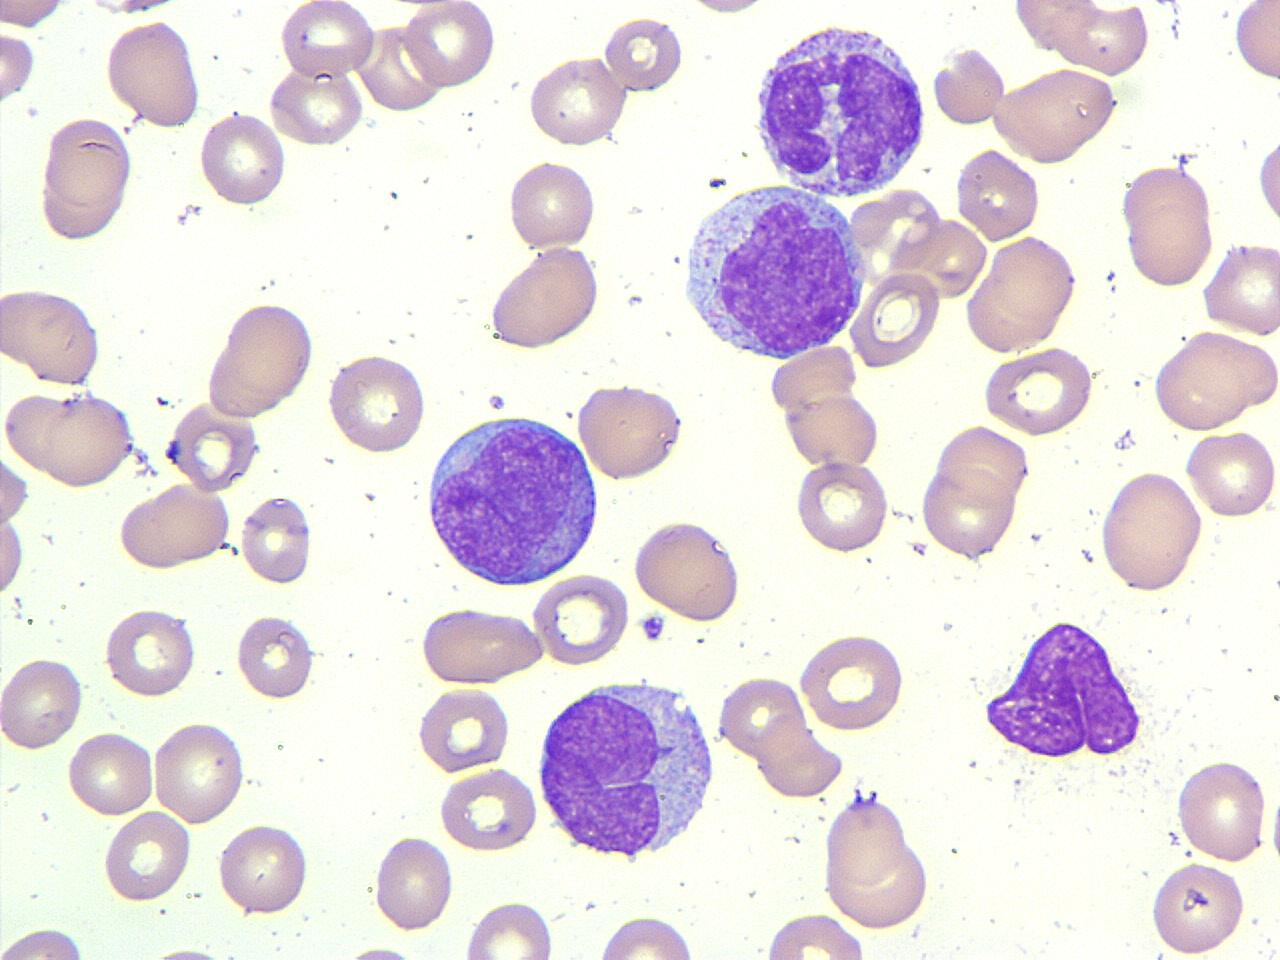Platelets: (153, 940, 224, 960), (348, 941, 415, 960), (636, 610, 668, 644), (1111, 429, 1135, 451), (707, 177, 727, 191), (1168, 830, 1182, 848)
RBC: (823, 792, 932, 934), (962, 232, 1080, 354), (2, 386, 139, 490), (1150, 326, 1280, 433), (1098, 467, 1204, 596), (206, 298, 318, 419), (37, 114, 137, 244), (990, 65, 1120, 164), (1119, 162, 1217, 289), (486, 244, 602, 351), (631, 517, 743, 625), (574, 380, 690, 484), (104, 17, 205, 131), (796, 631, 908, 733), (927, 425, 1030, 534), (326, 350, 430, 456), (0, 284, 107, 387), (149, 718, 247, 828), (980, 346, 1098, 437), (116, 482, 234, 572), (418, 604, 547, 686), (1175, 756, 1271, 864), (1147, 858, 1249, 958), (848, 268, 946, 372), (524, 53, 628, 149), (531, 570, 632, 668), (917, 464, 1019, 560), (792, 459, 890, 554), (101, 605, 200, 699), (216, 821, 312, 917), (196, 109, 286, 209), (953, 144, 1042, 244), (504, 158, 598, 252), (438, 765, 538, 853), (371, 832, 457, 934), (1184, 427, 1278, 520), (400, 1, 498, 90), (63, 727, 156, 820), (414, 686, 512, 774), (101, 810, 192, 904), (780, 388, 884, 470), (0, 652, 83, 754), (165, 404, 258, 494), (1043, 1, 1153, 77), (718, 670, 808, 762), (267, 66, 368, 147), (276, 0, 375, 80), (233, 611, 317, 702), (1200, 240, 1278, 337), (238, 492, 314, 588), (601, 12, 686, 95), (930, 44, 1008, 127), (461, 896, 558, 960), (761, 908, 866, 958), (594, 912, 698, 958), (1231, 0, 1279, 85), (0, 924, 92, 960), (0, 28, 38, 108), (1253, 132, 1279, 234), (0, 449, 30, 530), (0, 511, 26, 597), (0, 0, 69, 30), (682, 0, 776, 21)
WBC: (532, 674, 724, 865), (678, 179, 868, 363), (750, 14, 932, 200), (420, 407, 602, 588), (978, 615, 1149, 769)
